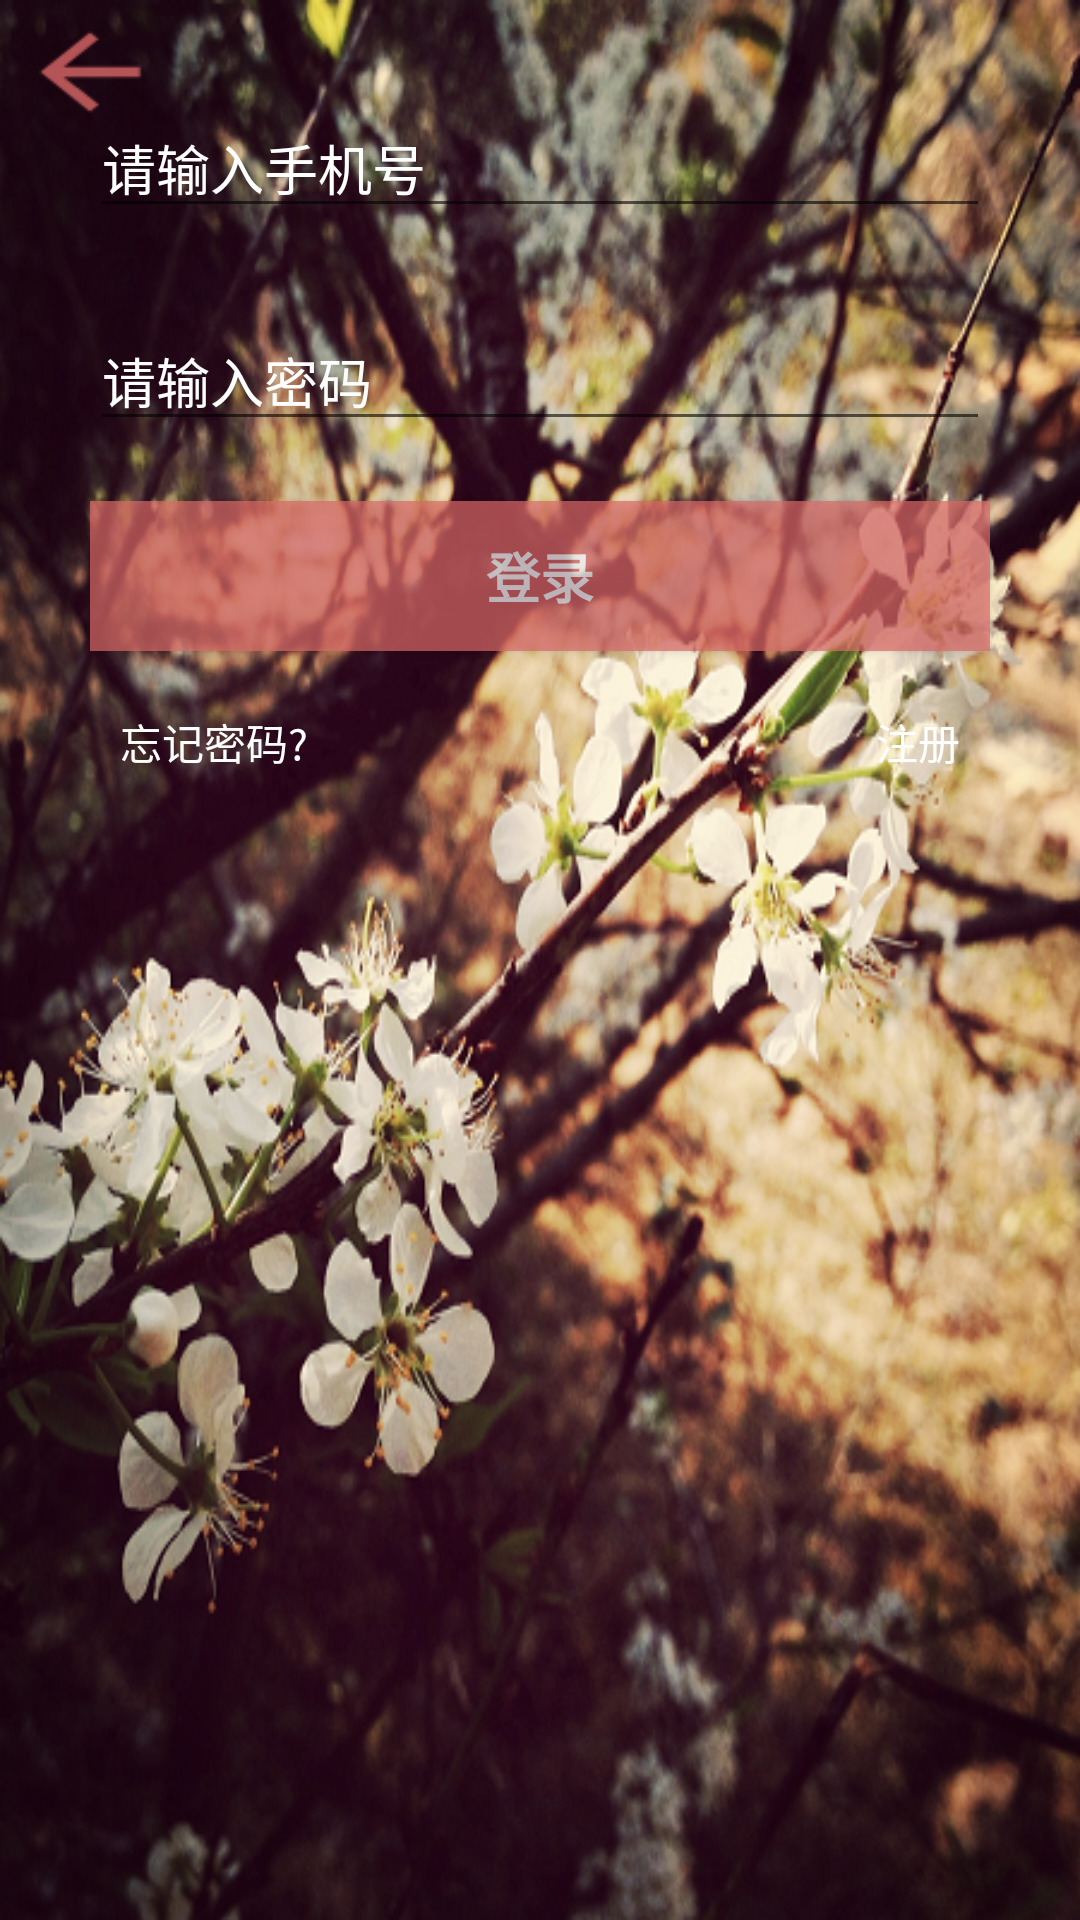

Icon bounding boxes for this 1080 × 1920 phone screenshot, format (x1, y1, x2, y2):
goback: (6, 17, 142, 112)
